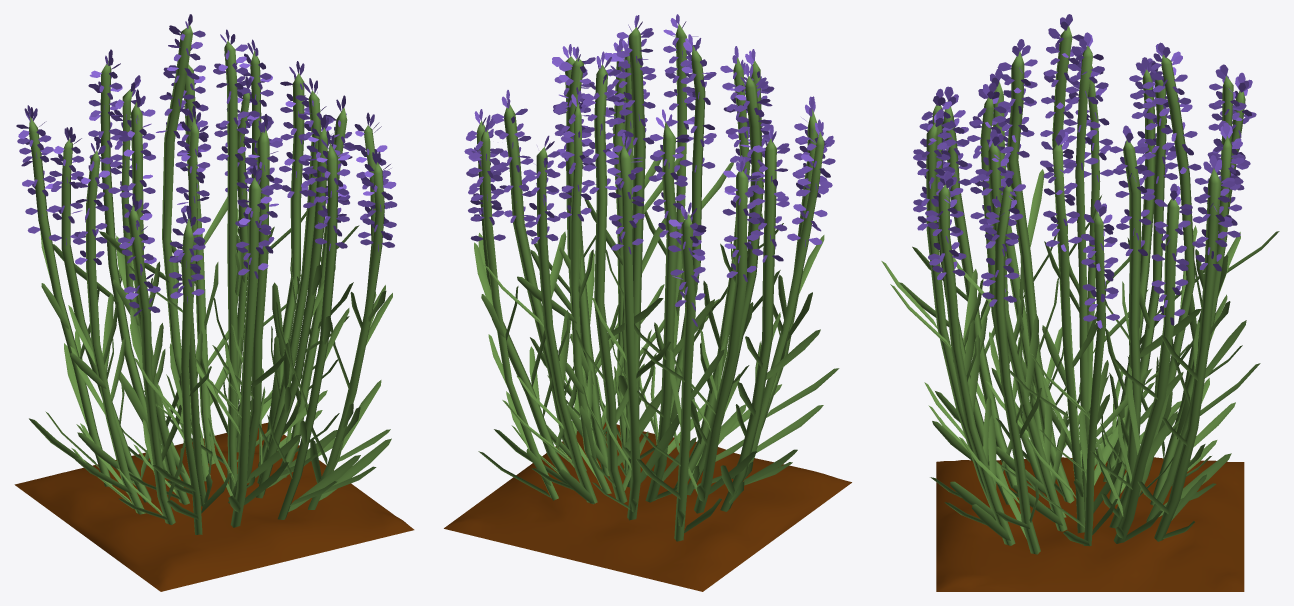
The model's file is lavender-p4-leaf.glb.
The picture shows the model from 3 angles, left to right: view 1: azimuth 30°, elevation 25°; view 2: azimuth 150°, elevation 25°; view 3: azimuth 270°, elevation 25°; orthographic projection. The views are drawn at different scales.
Parts seen in each view (by area): view 1: 4_nft_out_of_bloom; view 2: 4_nft_out_of_bloom; view 3: 4_nft_out_of_bloom.
Boxes of the visible parts, left/top/right/bottom form: 4_nft_out_of_bloom: left=14, top=14, right=414, bottom=591; 4_nft_out_of_bloom: left=444, top=14, right=851, bottom=591; 4_nft_out_of_bloom: left=881, top=14, right=1279, bottom=591.
Size of the model in its own units: 0.8598 by 1.25 by 0.9065.
